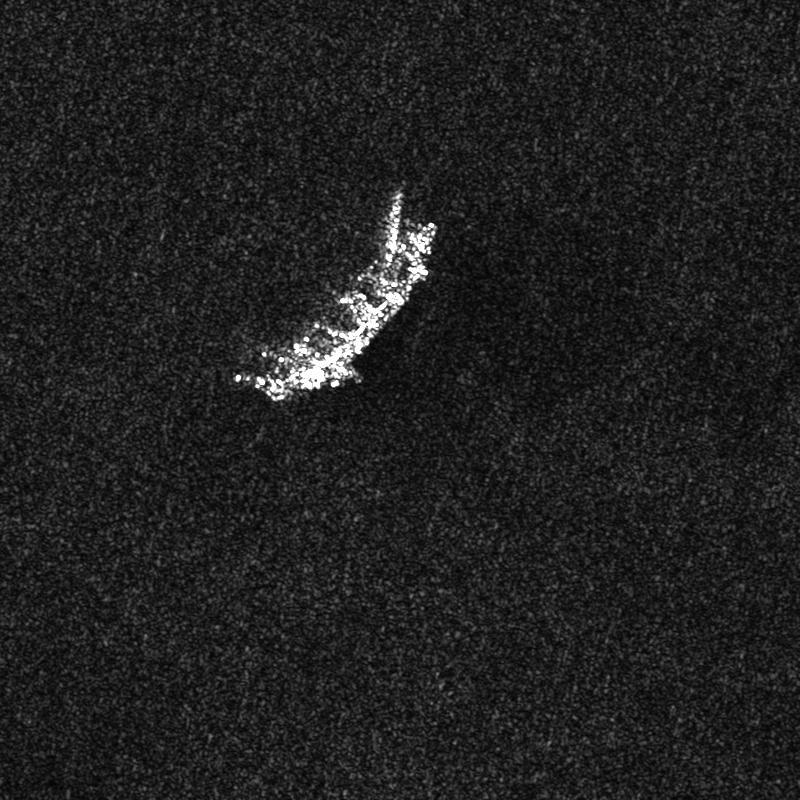ship: (269, 223, 435, 394)
